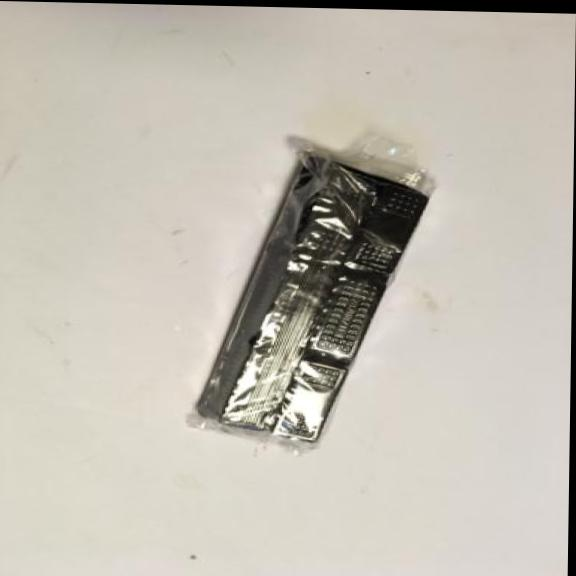Plastik: (180, 125, 448, 463)
